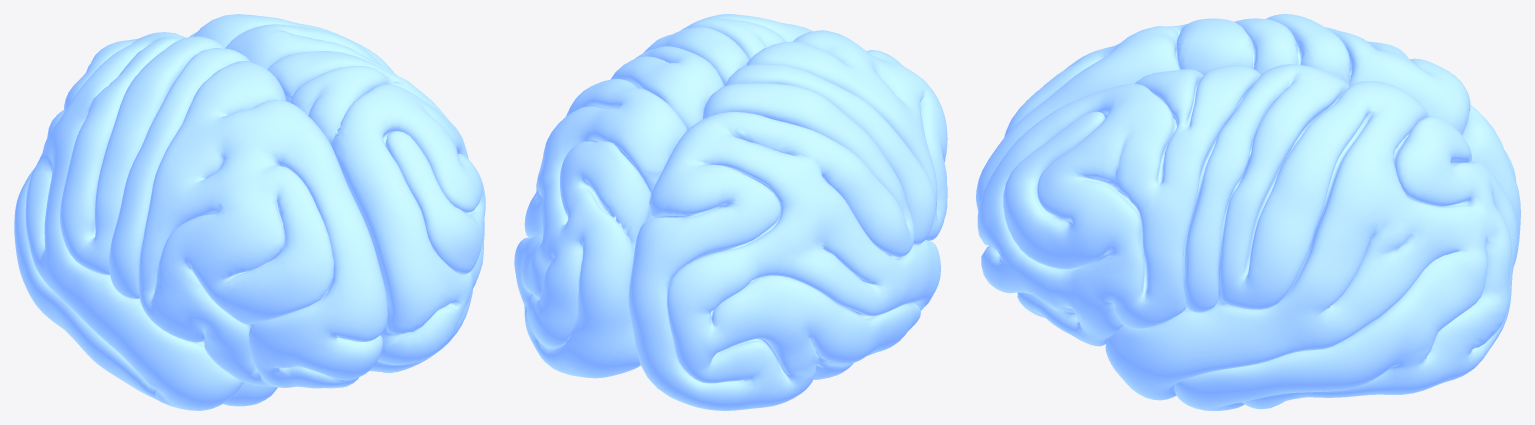
Rendered from energybrian.glb.
3 views of the same model, side by side, from view 1: azimuth 30°, elevation 25°; view 2: azimuth 150°, elevation 25°; view 3: azimuth 270°, elevation 25° (orthographic). The views are drawn at different scales.
Visible parts, largest first — view 1: Brian; view 2: Brian; view 3: Brian.
Boxes of the visible parts, x1,y1,x2,y2 form: Brian: (14,14,485,410); Brian: (514,14,947,410); Brian: (976,14,1520,410).
Size of the model in its own units: 4.4 by 3.62 by 5.55.
